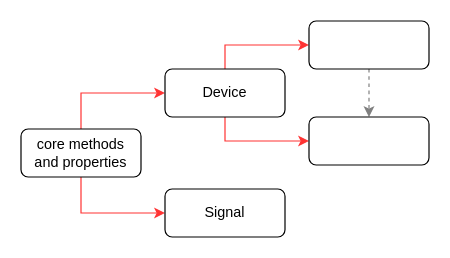
The diagram is 450 pixels wide and 258 high, and some of its shapes have lost their labels. Each missing label, with the centre of its shape:
"Flyer" goes at [368,140].
"Positioner" goes at [368,44].
